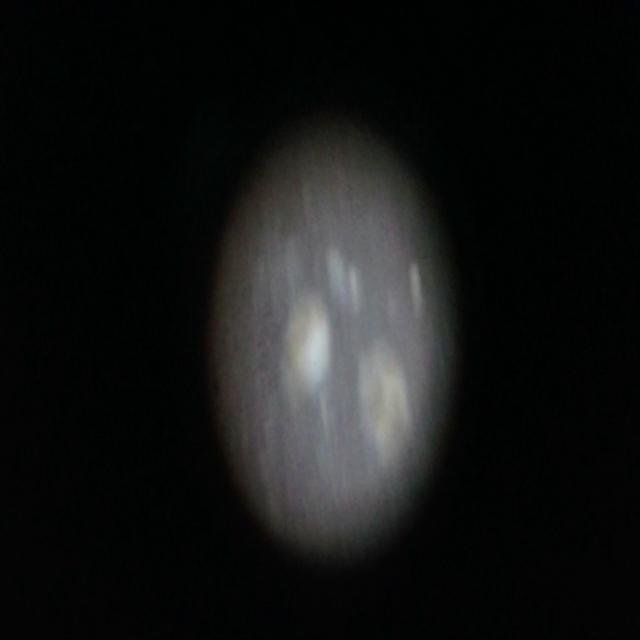alexandrium: (276, 272, 341, 420), (359, 351, 416, 477)
